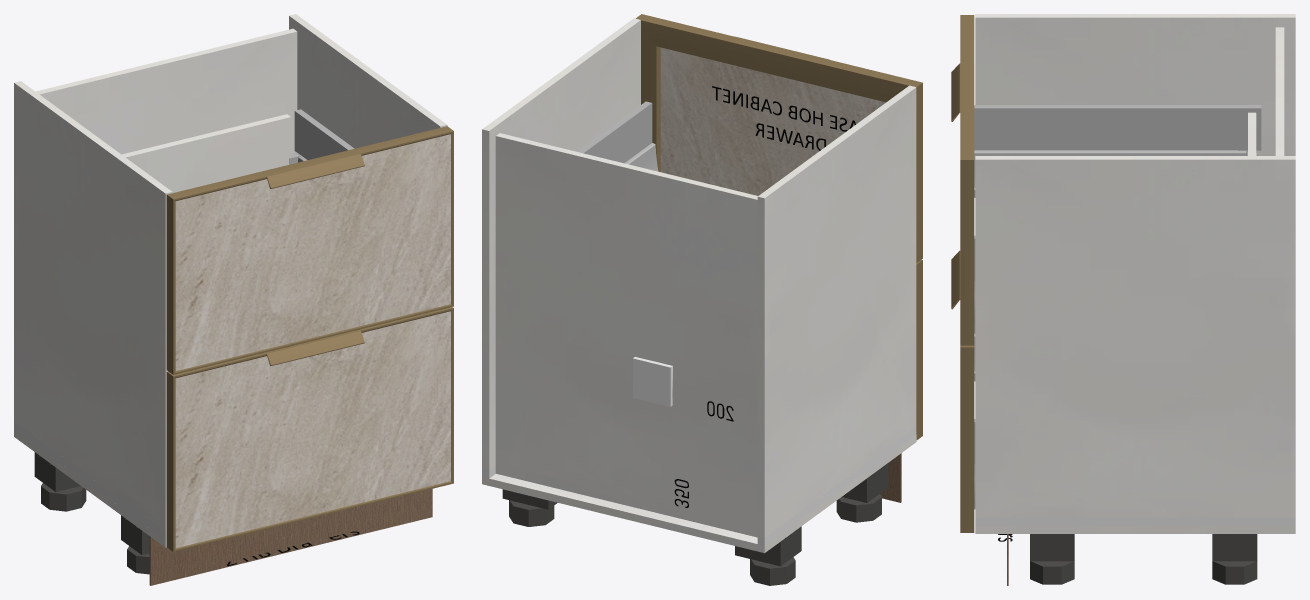
File: BC-HO-TTS-ST-XXX-2HB-XXX-600-720-560-15.glb
3 views of the same model, side by side, from view 1: azimuth 30°, elevation 25°; view 2: azimuth 150°, elevation 25°; view 3: azimuth 270°, elevation 25° (orthographic). The views are drawn at different scales.
Parts seen in each view (by area): view 1: TP_node_4, Object_node, Object_node_1, TP, TP_node_5, Object_node_80, TP_node_2, ExtrSplGeo_node, Extrusion_node_4, Extrusion_node_11, Object_node_55, ExtrSplGeo (+10 smaller); view 2: TP, TP_node_4, Object_node_1, TP_node_5, TP_node_3, ExtrSplGeo_node, Extrusion_node_7, Object_node_55, Extrusion_node_8, Extrusion_node_9, casing, Object_node_60 (+9 smaller); view 3: TP_node_5, TP_node_4, Object_node_57, Object_node_62, Extrusion_node_2, Extrusion_node_9, TP_node_3, Shell_1_0_node, TP, Plate_node, Plate_node_1, ExtrSplGeo_node (+5 smaller).
Part boxes in pixels (x1,y1,x2,y2): TP_node_4: (14,81,172,532); Object_node: (175,311,450,547); Object_node_1: (175,134,450,370); TP: (35,28,297,154); TP_node_5: (289,14,447,148); Object_node_80: (149,489,432,585); TP_node_2: (122,114,291,192); ExtrSplGeo_node: (260,149,364,188); Extrusion_node_4: (166,372,175,551); Extrusion_node_11: (166,195,175,374); Object_node_55: (294,109,354,159); ExtrSplGeo: (265,329,364,366); TP: (495,133,757,537); TP_node_4: (757,85,916,537); Object_node_1: (660,47,885,195); TP_node_5: (482,18,640,470); TP_node_3: (482,435,916,553); ExtrSplGeo_node: (728,36,829,86); Extrusion_node_7: (636,14,734,63); Object_node_55: (577,101,652,163); Extrusion_node_8: (822,60,922,102); Extrusion_node_9: (641,27,660,171); casing: (633,356,672,406); Object_node_60: (757,427,916,545); TP_node_5: (975,156,1295,517); TP_node_4: (975,14,1295,155); Object_node_57: (974,105,1261,150); Object_node_62: (975,518,1295,526); Extrusion_node_2: (960,347,974,532); Extrusion_node_9: (960,160,974,345); TP_node_3: (975,526,1295,533); Shell_1_0_node: (974,150,1247,197); TP: (1275,27,1284,155); Plate_node: (1212,534,1257,561); Plate_node_1: (1030,534,1074,561); ExtrSplGeo_node: (951,63,974,121).
Size of what is drawn, in the model's own units: 0.6 by 0.82 by 0.6.
11 materials, 3 textured.
